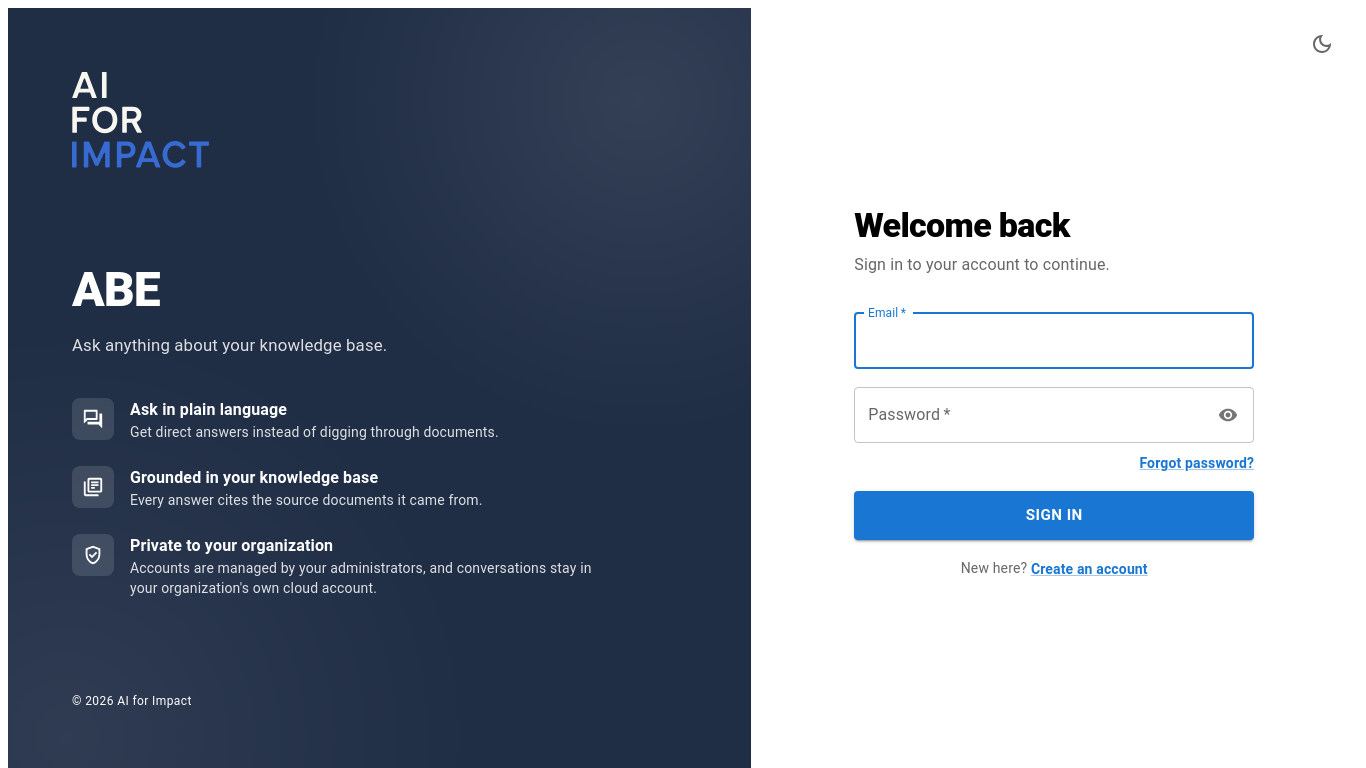
LoginPage › walks through sign-up to the email confirmation view
Click the button "Create an account" at [1089, 570], box [1031, 560, 1148, 580]
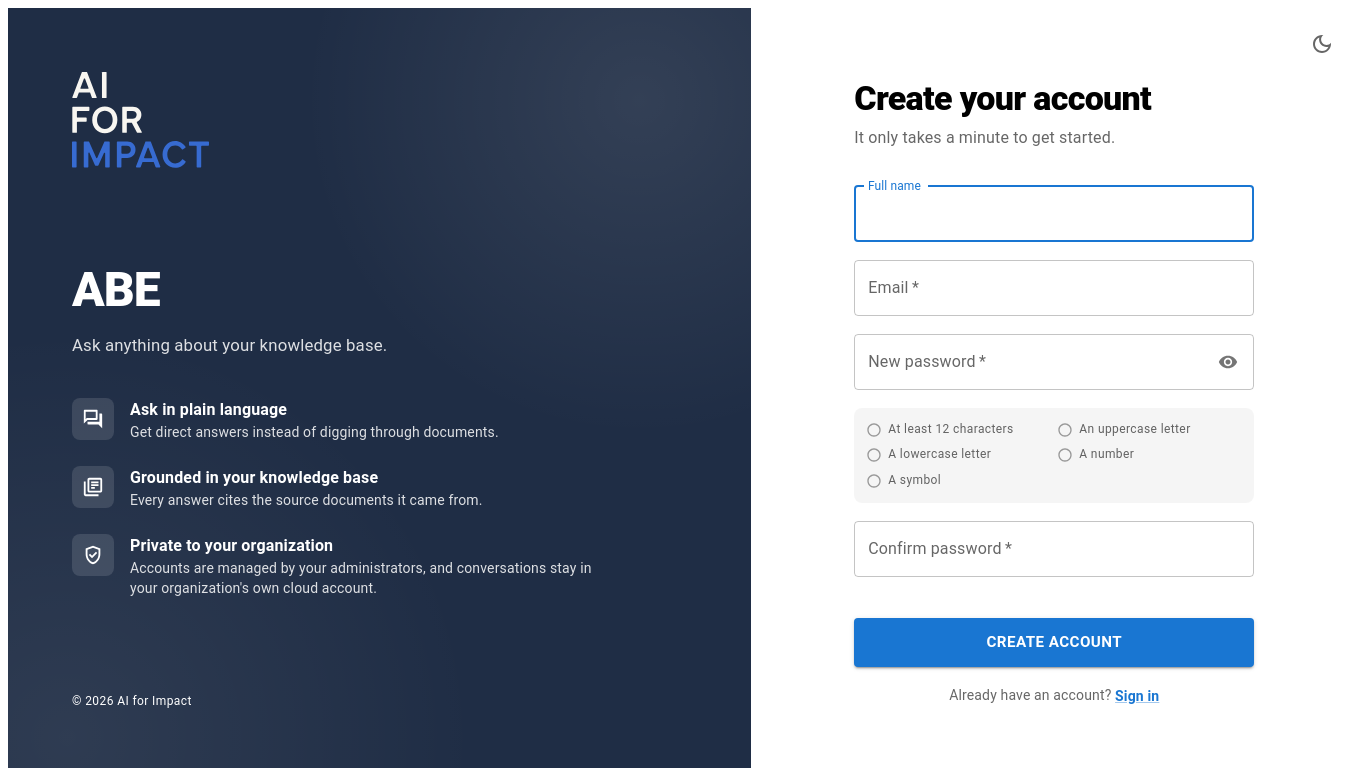
Check: the heading "Create your account" is shown, box [854, 78, 1151, 118]
Check: the text "At least 12 characters" is shown, box [888, 420, 1014, 439]
Type "Jane Smith" into the field labelled "Full name" at [1054, 214], box [854, 186, 1254, 242]
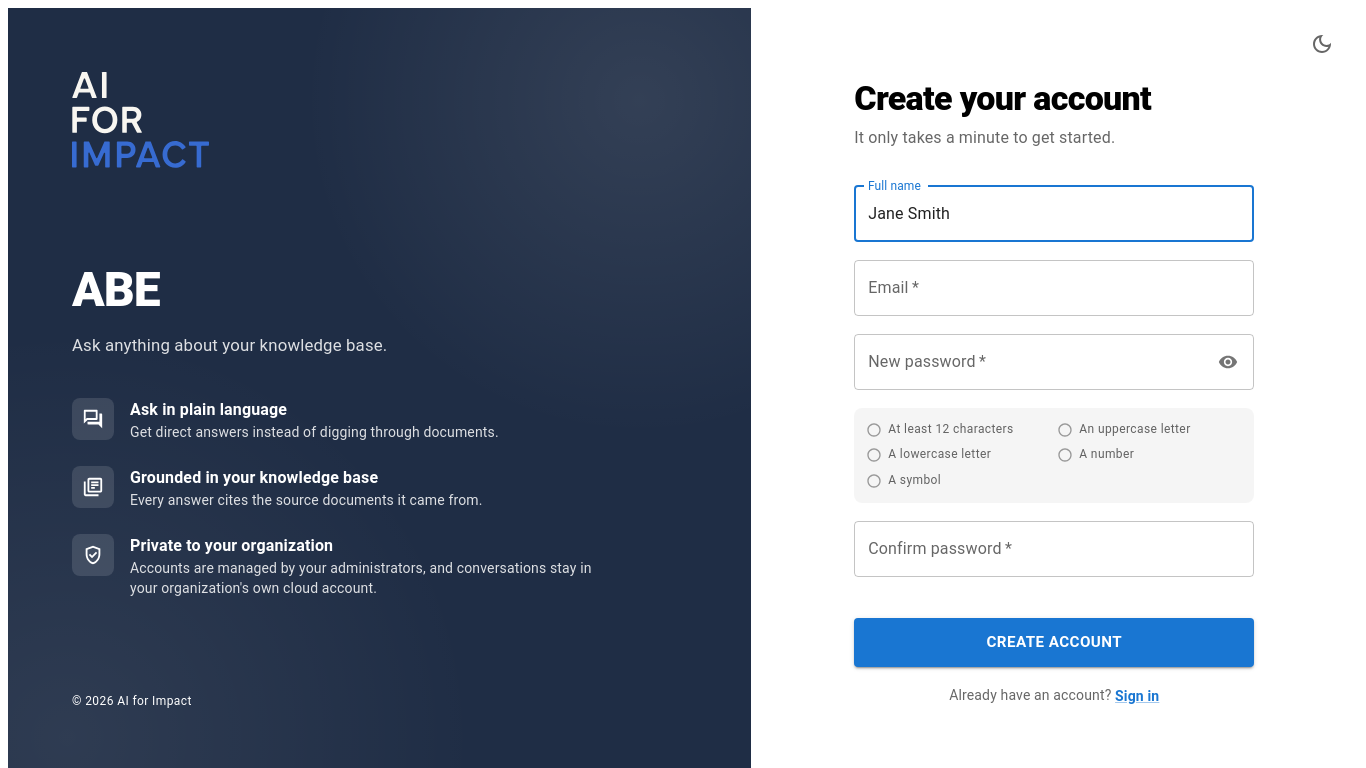
Type "jane@example.com" into the field labelled "Email *" at [1054, 288], box [854, 260, 1254, 316]
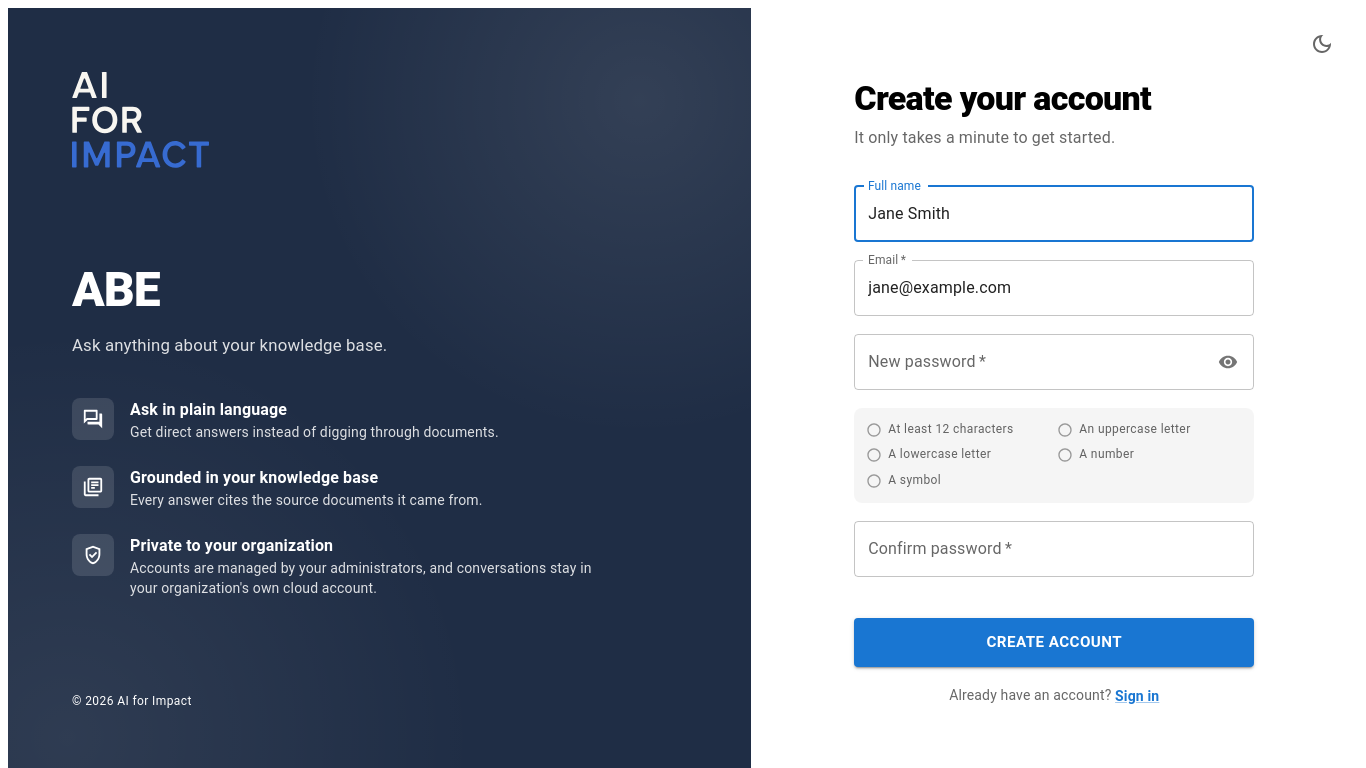
Type "Sufficient#Pass9word" into the password field labelled "New password *" at [1030, 362], box [854, 334, 1205, 390]
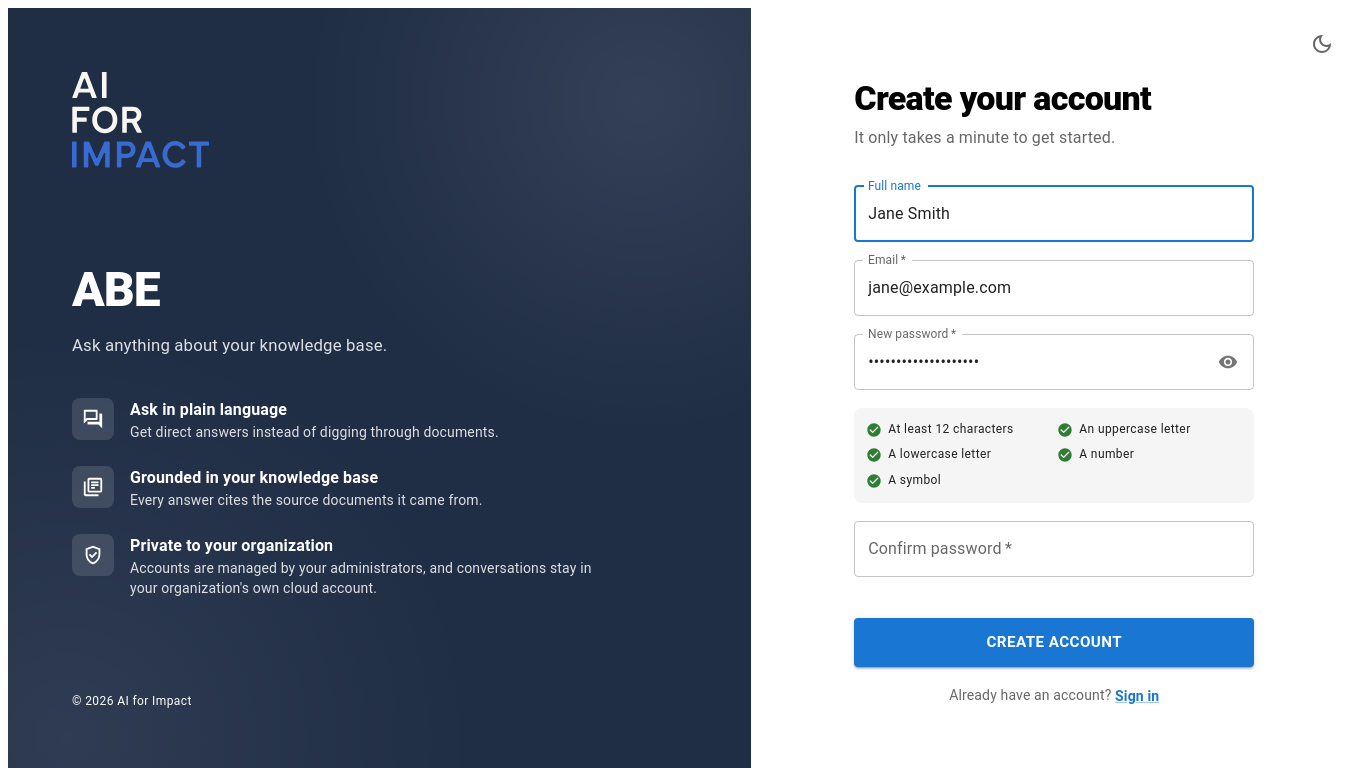
Type "Sufficient#Pass9word" into the password field labelled "Confirm password *" at [1054, 549], box [854, 521, 1254, 577]
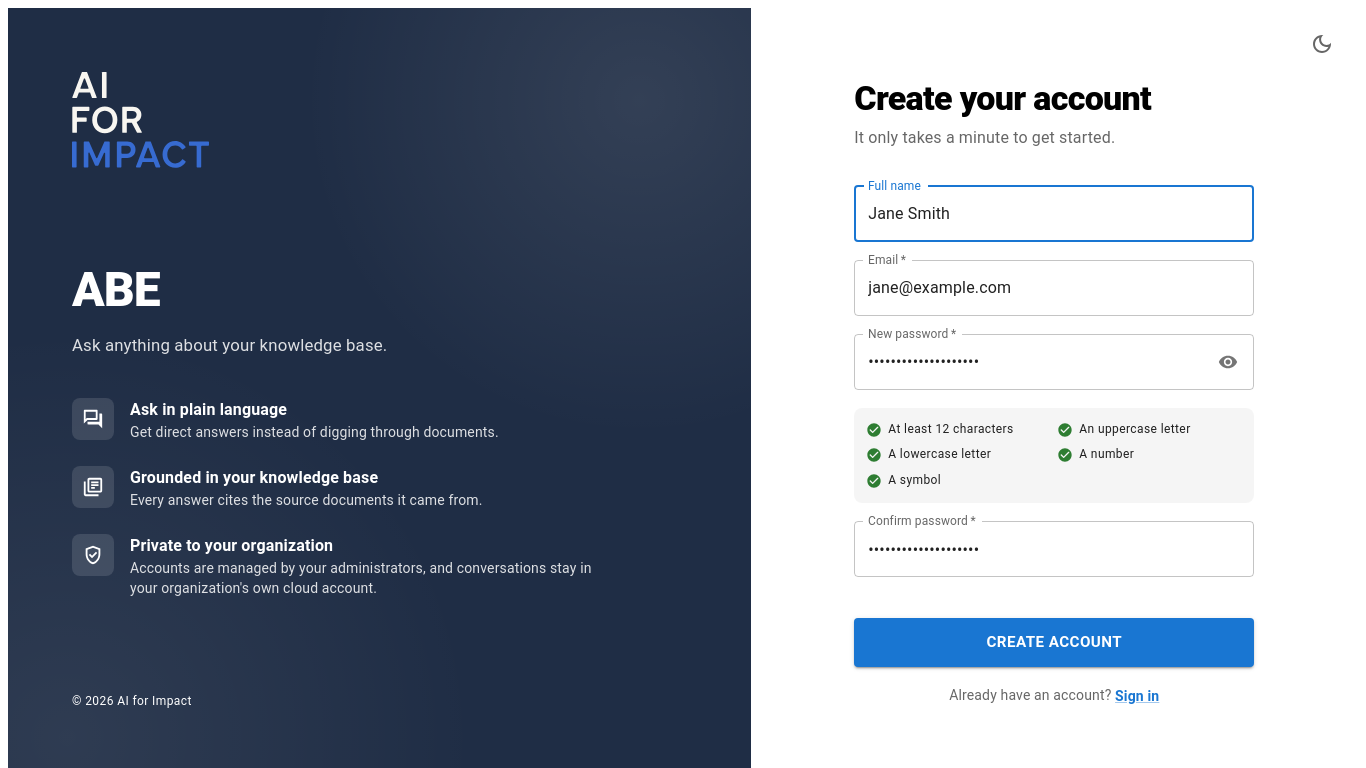
Click the button "Create account" at [1054, 643], box [854, 618, 1254, 667]
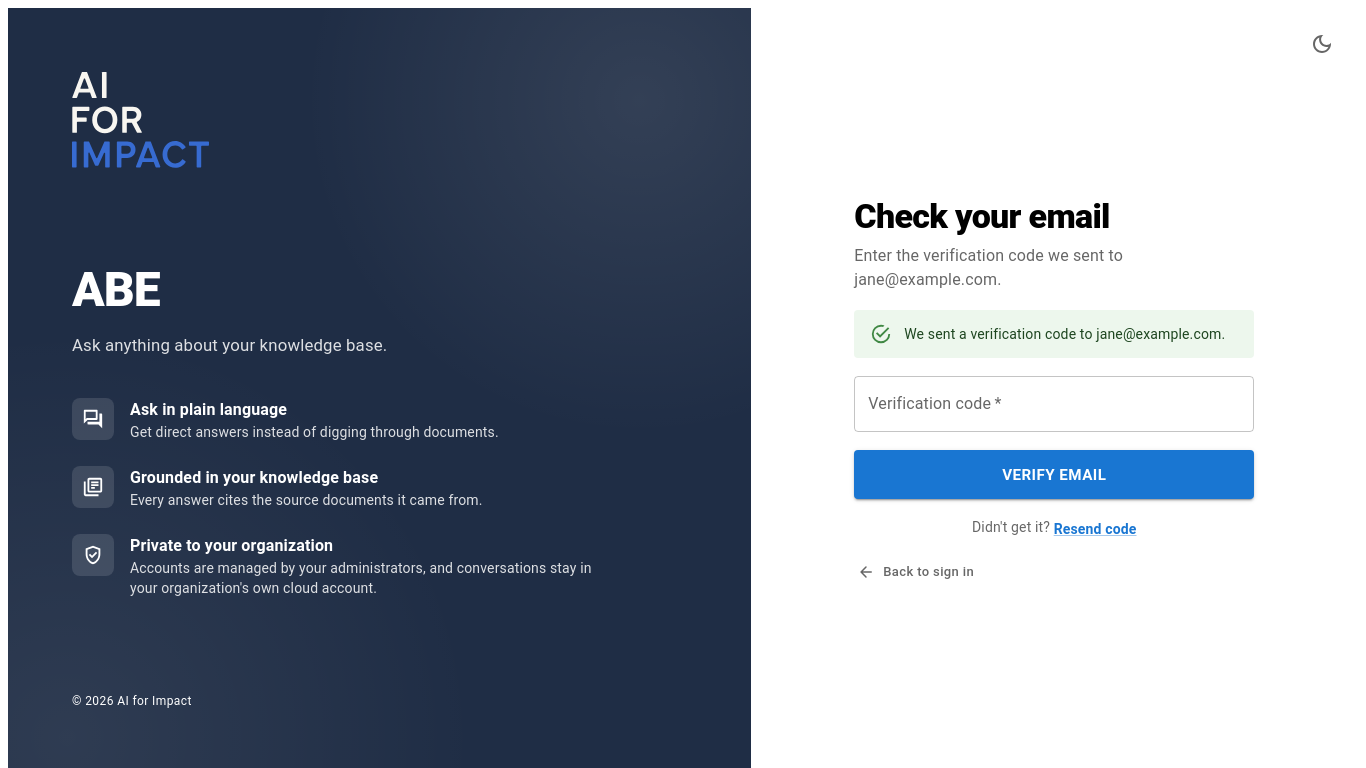
Check: the heading "Check your email" is shown, box [854, 196, 1110, 236]
